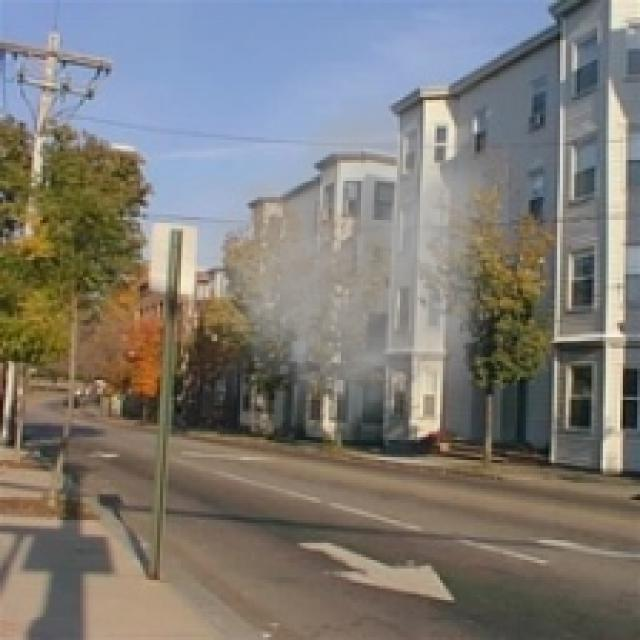Smoke: (166, 80, 508, 452)
